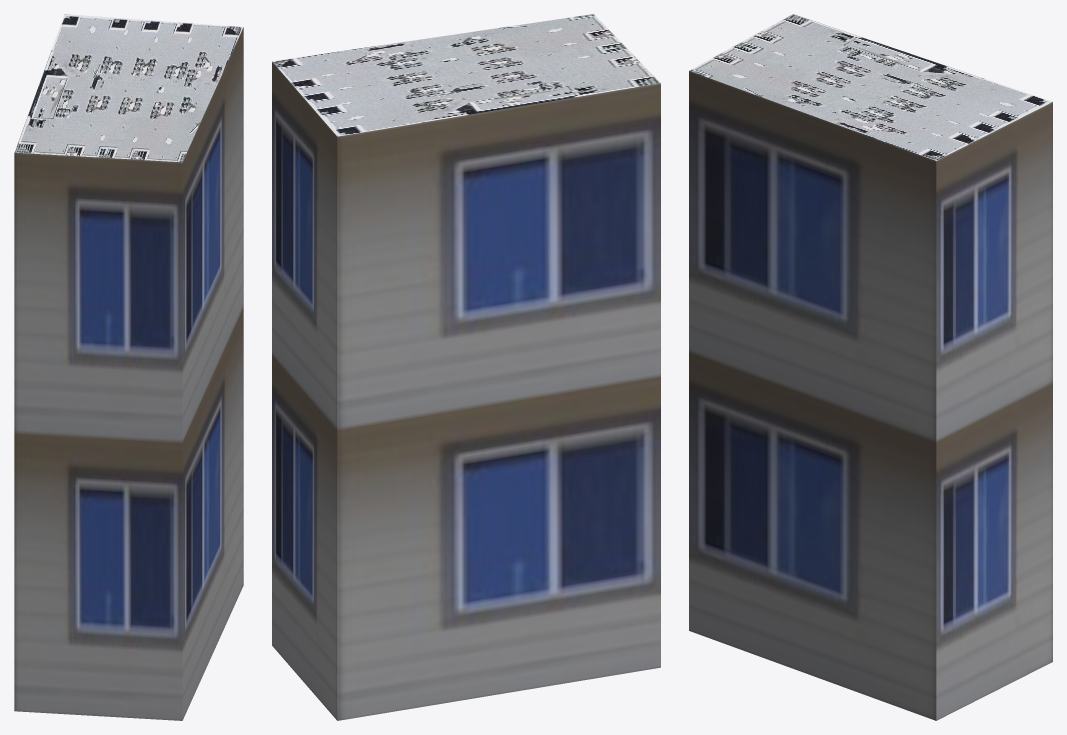
The model's file is ResTex__3634.fbx.
3 views of the same model, side by side, from view 1: azimuth 30°, elevation 25°; view 2: azimuth 150°, elevation 25°; view 3: azimuth 270°, elevation 25° (orthographic). The views are drawn at different scales.
Parts seen in each view (by area): view 1: CityEngineMaterial_23_m, CityEngineMaterial_4_m; view 2: CityEngineMaterial_23_m, CityEngineMaterial_4_m; view 3: CityEngineMaterial_23_m, CityEngineMaterial_4_m.
Boxes of the visible parts, x1,y1,x2,y2 form: CityEngineMaterial_23_m: (14,27,243,720); CityEngineMaterial_4_m: (14,14,243,162); CityEngineMaterial_23_m: (272,61,660,720); CityEngineMaterial_4_m: (272,14,660,136); CityEngineMaterial_23_m: (689,71,1052,720); CityEngineMaterial_4_m: (689,14,1052,160).
Bounding box in the file's own units: 3.38 × 6 × 3.53.
Materials: 2 (2 with a texture image).
